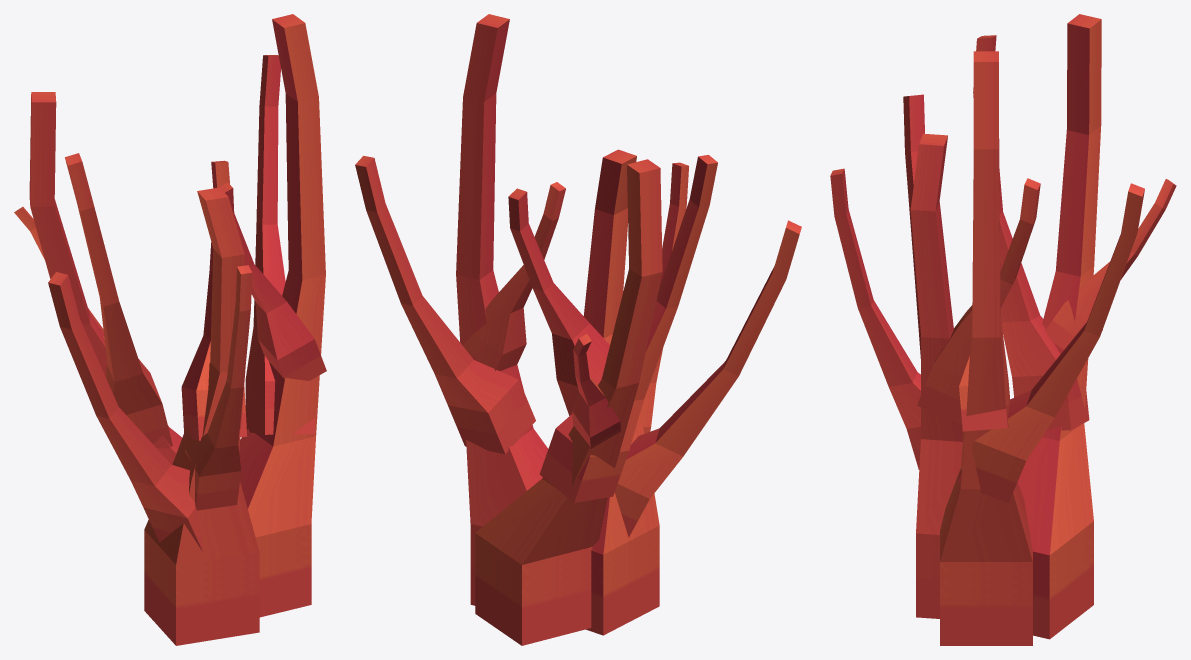
Rendered from Coral.fbx.
3 renders of one model, left to right at view 1: azimuth 30°, elevation 25°; view 2: azimuth 150°, elevation 25°; view 3: azimuth 270°, elevation 25°, orthographic. The views are drawn at different scales.
Visible parts, largest first — view 1: Coral; view 2: Coral; view 3: Coral.
Boxes of the visible parts, x1=… form: Coral: x1=14, y1=14, x2=326, y2=645; Coral: x1=355, y1=14, x2=801, y2=645; Coral: x1=830, y1=14, x2=1176, y2=645.
Bounding box in the file's own units: 0.6029 × 0.977 × 0.5172.
